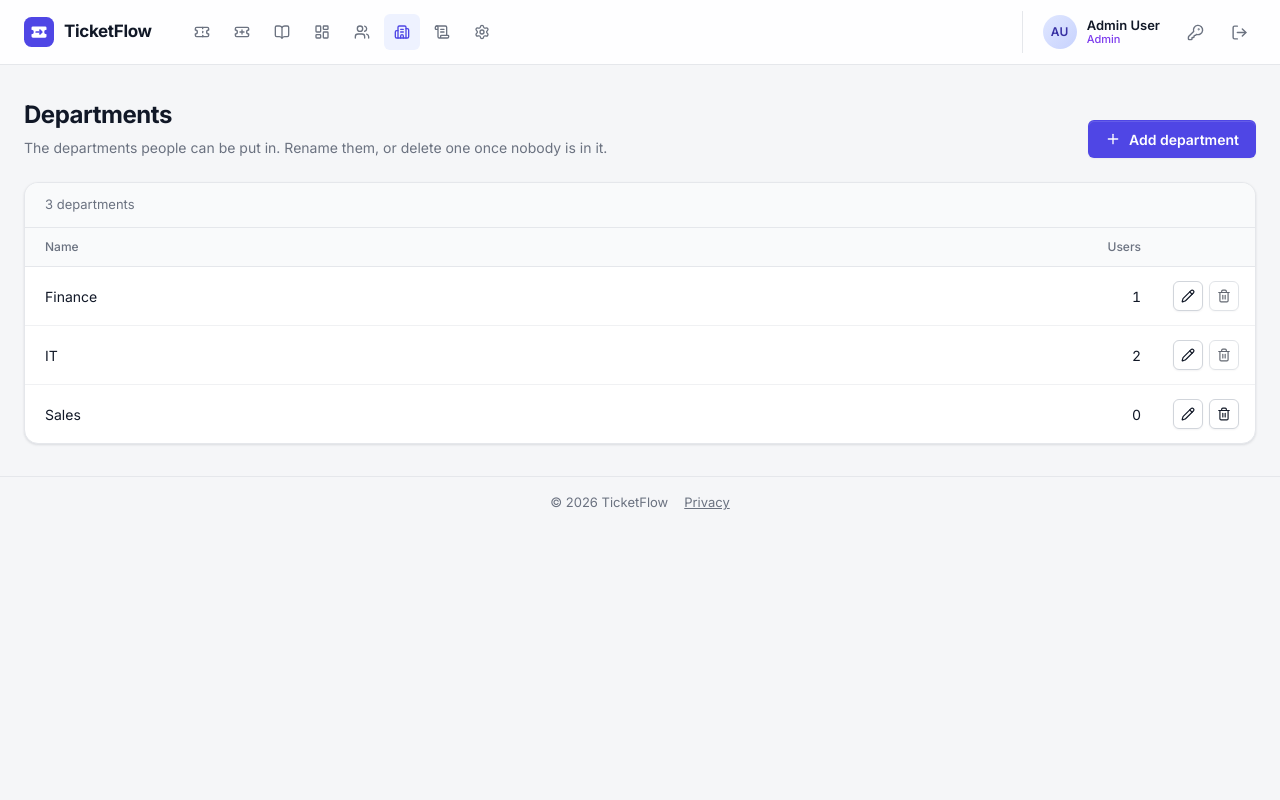
Test: Departments page › delete › Cancel keeps the department
Expected: the table is shown, [25, 228, 1255, 443]
Click the button named "Delete Sales": (1224, 414) [1209, 399, 1239, 429]
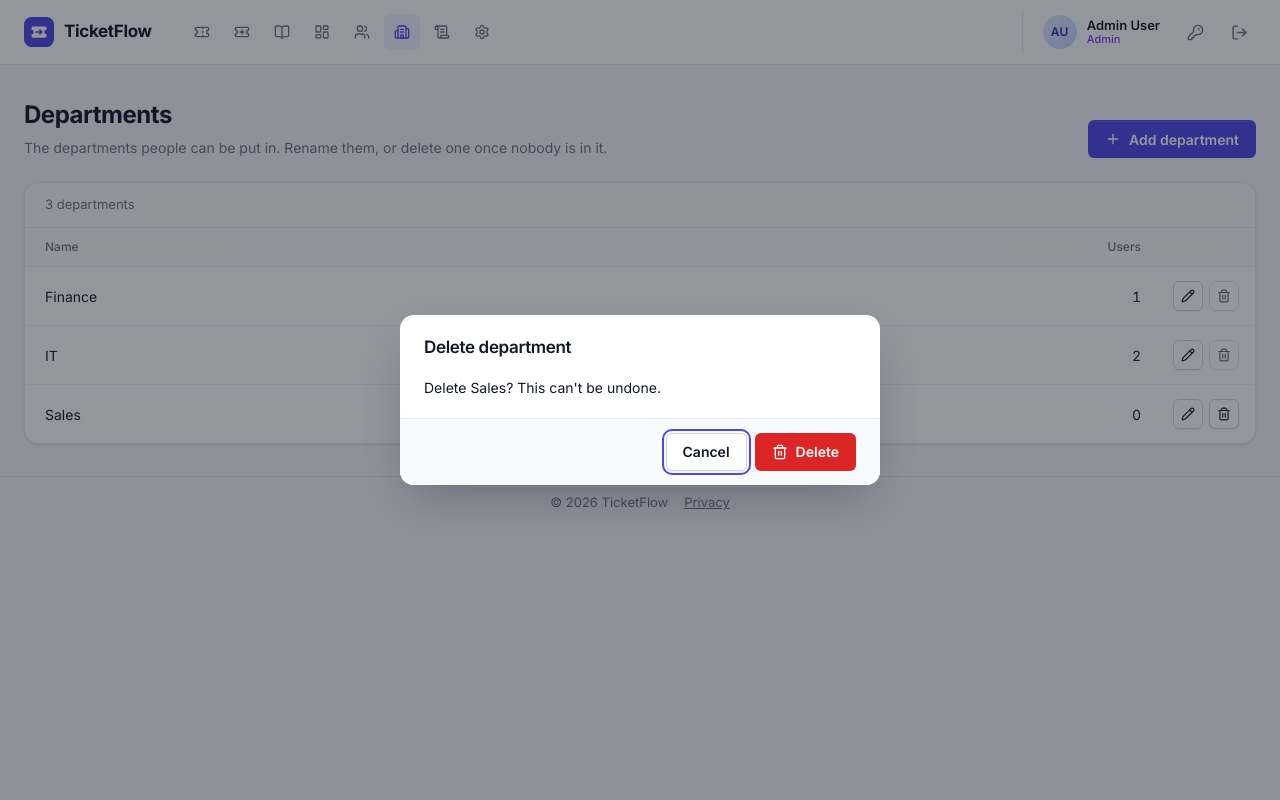
Click the button "Cancel": (706, 452) [666, 433, 746, 471]
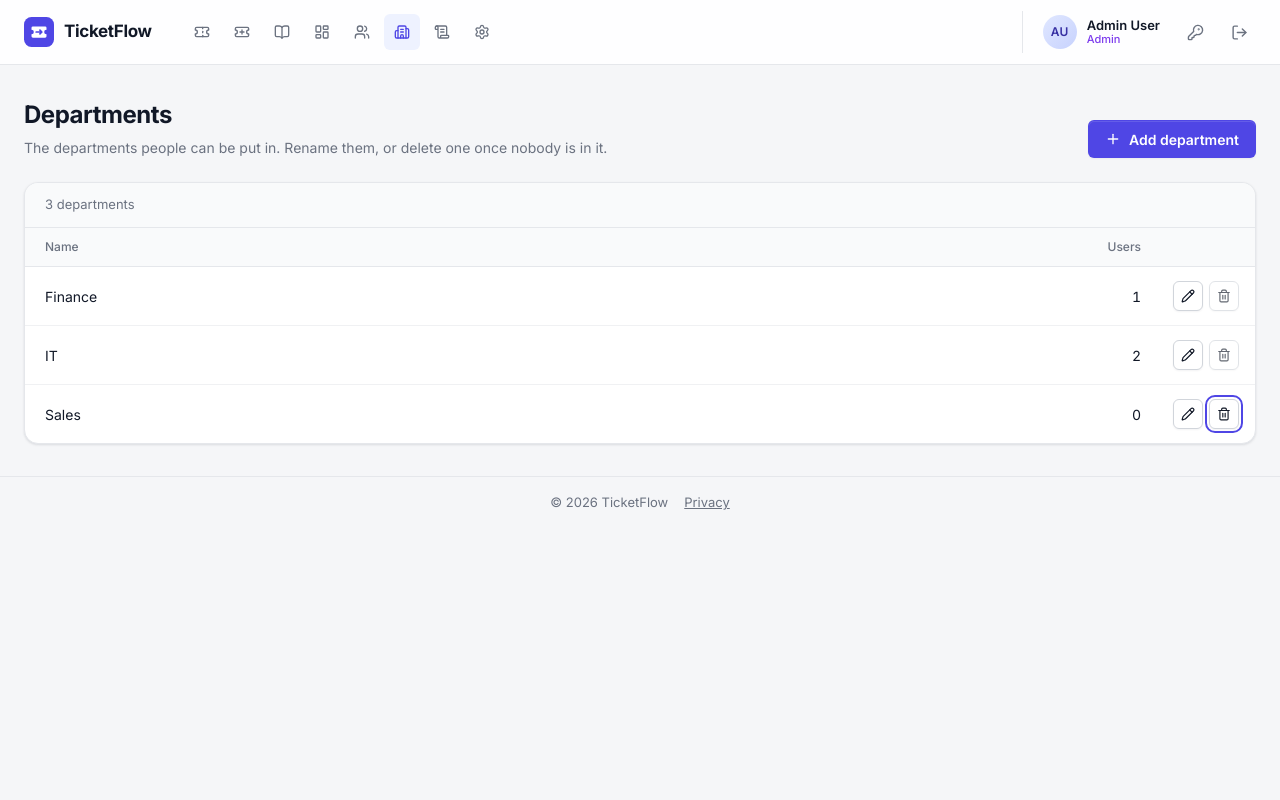
Expected: the dialog is gone
